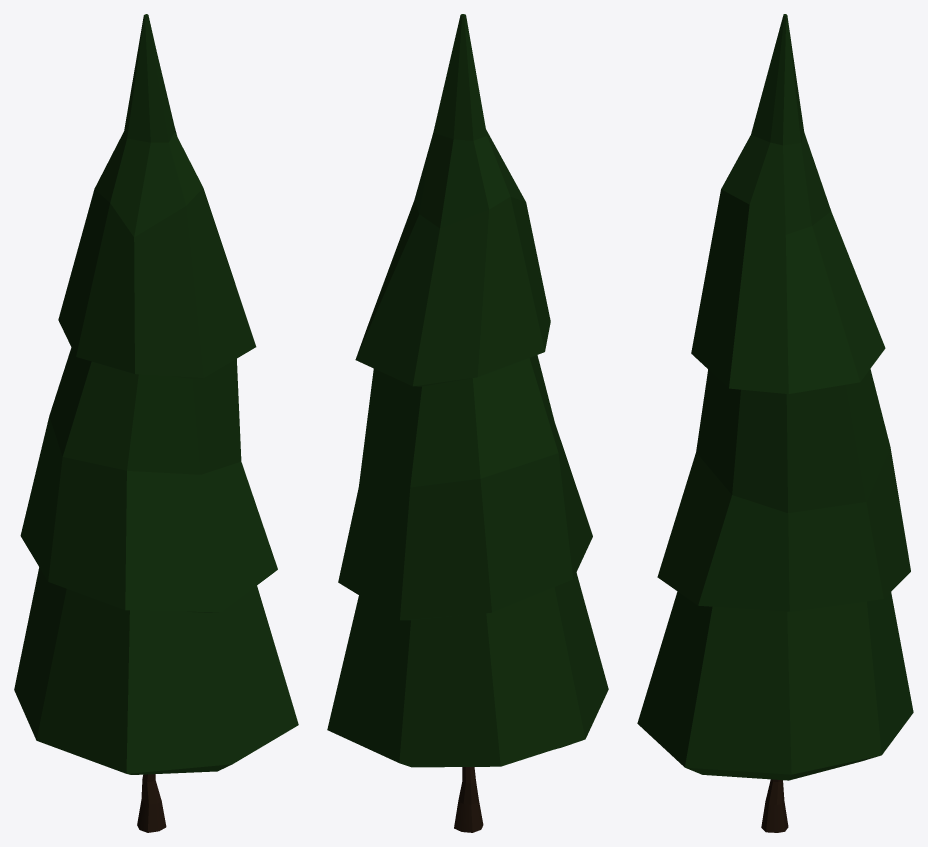
File: Tree#2.FBX
The picture shows the model from 3 angles, left to right: view 1: azimuth 30°, elevation 25°; view 2: azimuth 150°, elevation 25°; view 3: azimuth 270°, elevation 25°; orthographic projection.
Visible parts, largest first — view 1: Tree 2; view 2: Tree 2; view 3: Tree 2.
Boxes of the visible parts, left/top/right/bottom form: Tree 2: left=14, top=14, right=298, bottom=832; Tree 2: left=327, top=14, right=608, bottom=832; Tree 2: left=637, top=14, right=913, bottom=832.
Bounding box in the file's own units: 107 × 355 × 109.
